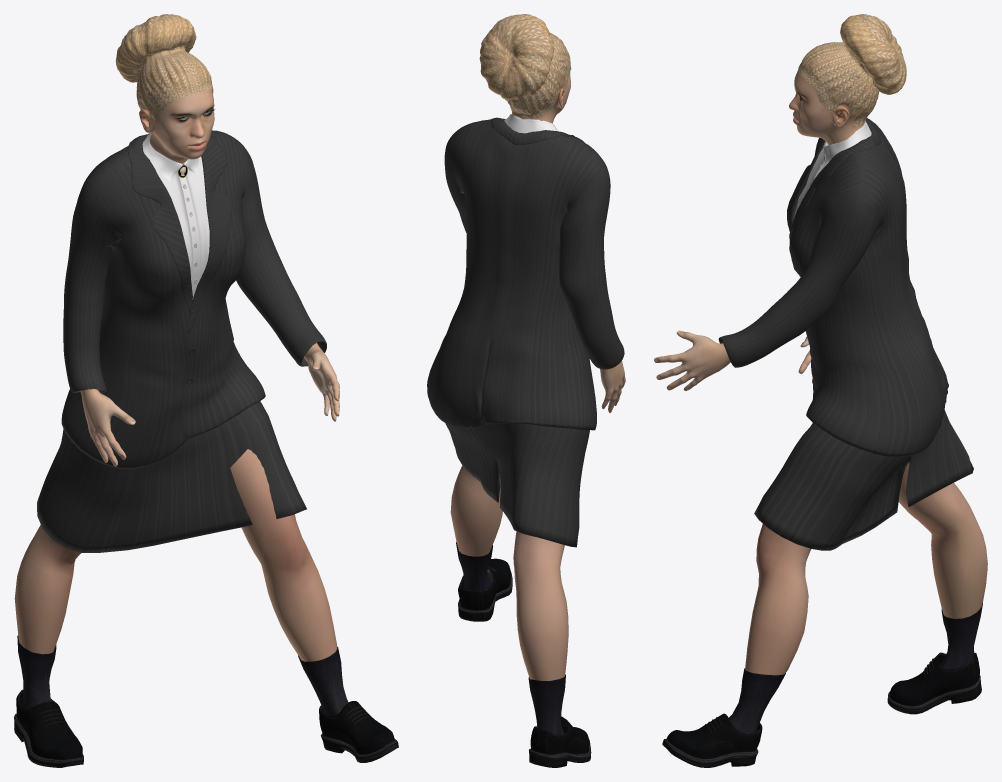
Rendered from donna-04.glb.
3 views of the same model, side by side, from view 1: azimuth 30°, elevation 25°; view 2: azimuth 150°, elevation 25°; view 3: azimuth 270°, elevation 25° (orthographic). The views are drawn at different scales.
Parts seen in each view (by area): view 1: Human.toigo_female_suit, Human, Human.shoes03, Human.elvs_braid_bun; view 2: Human.toigo_female_suit, Human, Human.elvs_braid_bun, Human.shoes03; view 3: Human.toigo_female_suit, Human, Human.shoes03, Human.elvs_braid_bun.
Boxes of the visible parts, box(x1,y1,x2,y2) form: Human.toigo_female_suit: box(37, 130, 326, 552); Human: box(14, 88, 339, 661); Human.shoes03: box(14, 635, 398, 767); Human.elvs_braid_bun: box(115, 14, 213, 124); Human.toigo_female_suit: box(427, 114, 624, 547); Human: box(450, 67, 625, 680); Human.elvs_braid_bun: box(479, 14, 570, 119); Human.shoes03: box(456, 542, 591, 767); Human.toigo_female_suit: box(718, 118, 973, 550); Human: box(654, 69, 987, 675); Human.shoes03: box(662, 603, 982, 767); Human.elvs_braid_bun: box(798, 14, 906, 127).
Size of the model in its own units: 0.634 by 1.82 by 0.7624.
Materials: 12 (12 with a texture image).
